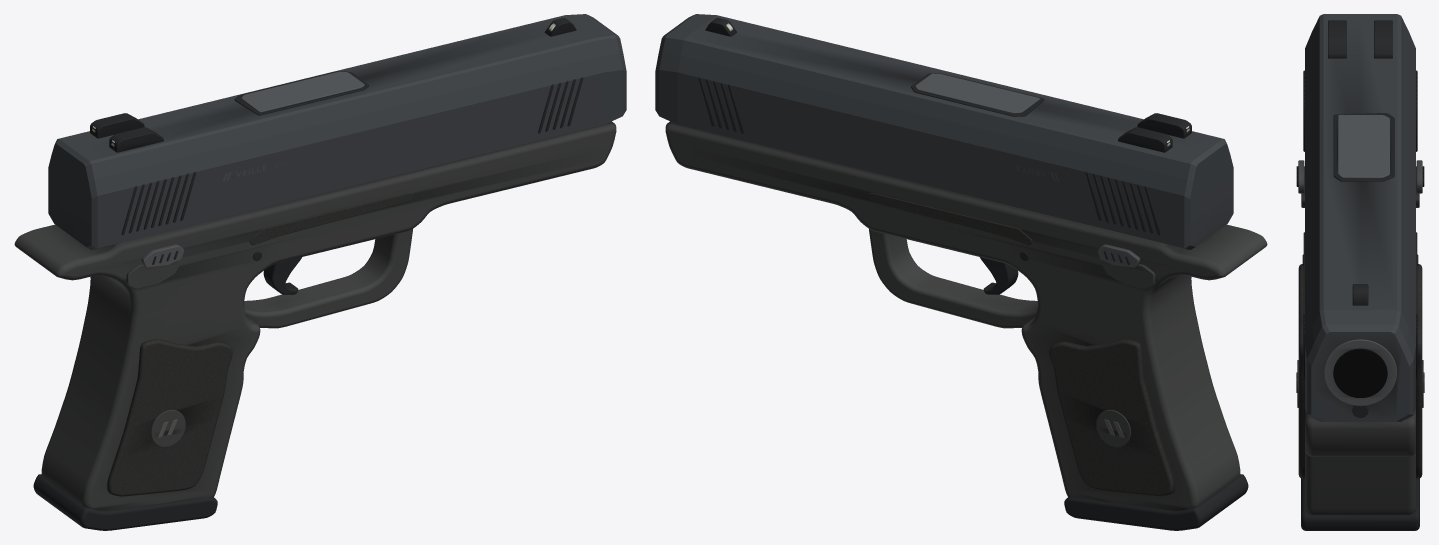
File: fps-handgun.glb
The picture shows the model from 3 angles, left to right: view 1: azimuth 30°, elevation 25°; view 2: azimuth 150°, elevation 25°; view 3: azimuth 270°, elevation 25°; orthographic projection. The views are drawn at different scales.
Visible parts, largest first — view 1: Graphite sidearm exterior; view 2: Graphite sidearm exterior; view 3: Graphite sidearm exterior.
Part boxes in pixels (box(x1,y1,x2,y2)): Graphite sidearm exterior: box(14, 14, 626, 530); Graphite sidearm exterior: box(655, 14, 1267, 530); Graphite sidearm exterior: box(1296, 14, 1424, 530).
Bounding box in the file's own units: 0.2064 × 0.1339 × 0.0334.
8 materials, 2 textured.
